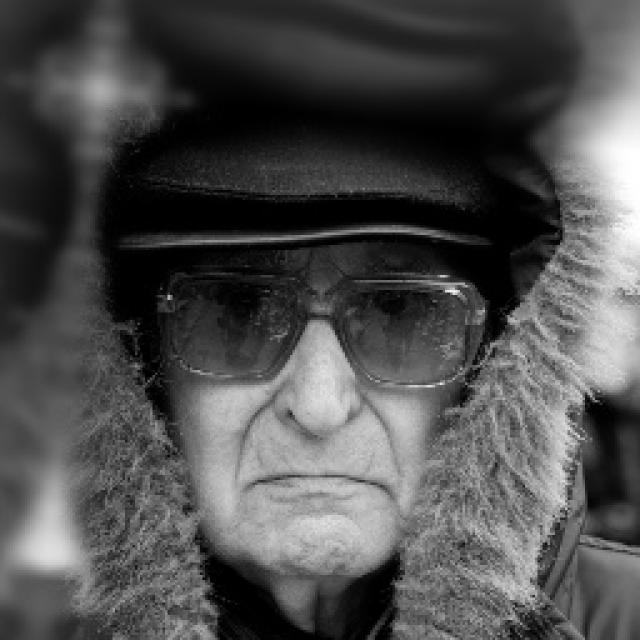glasses: (155, 255, 493, 411)
